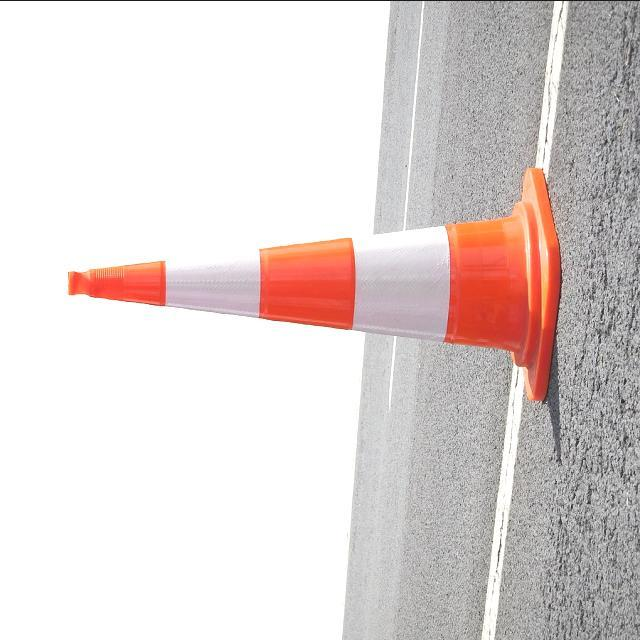traffic cone: (262, 167, 563, 405)
